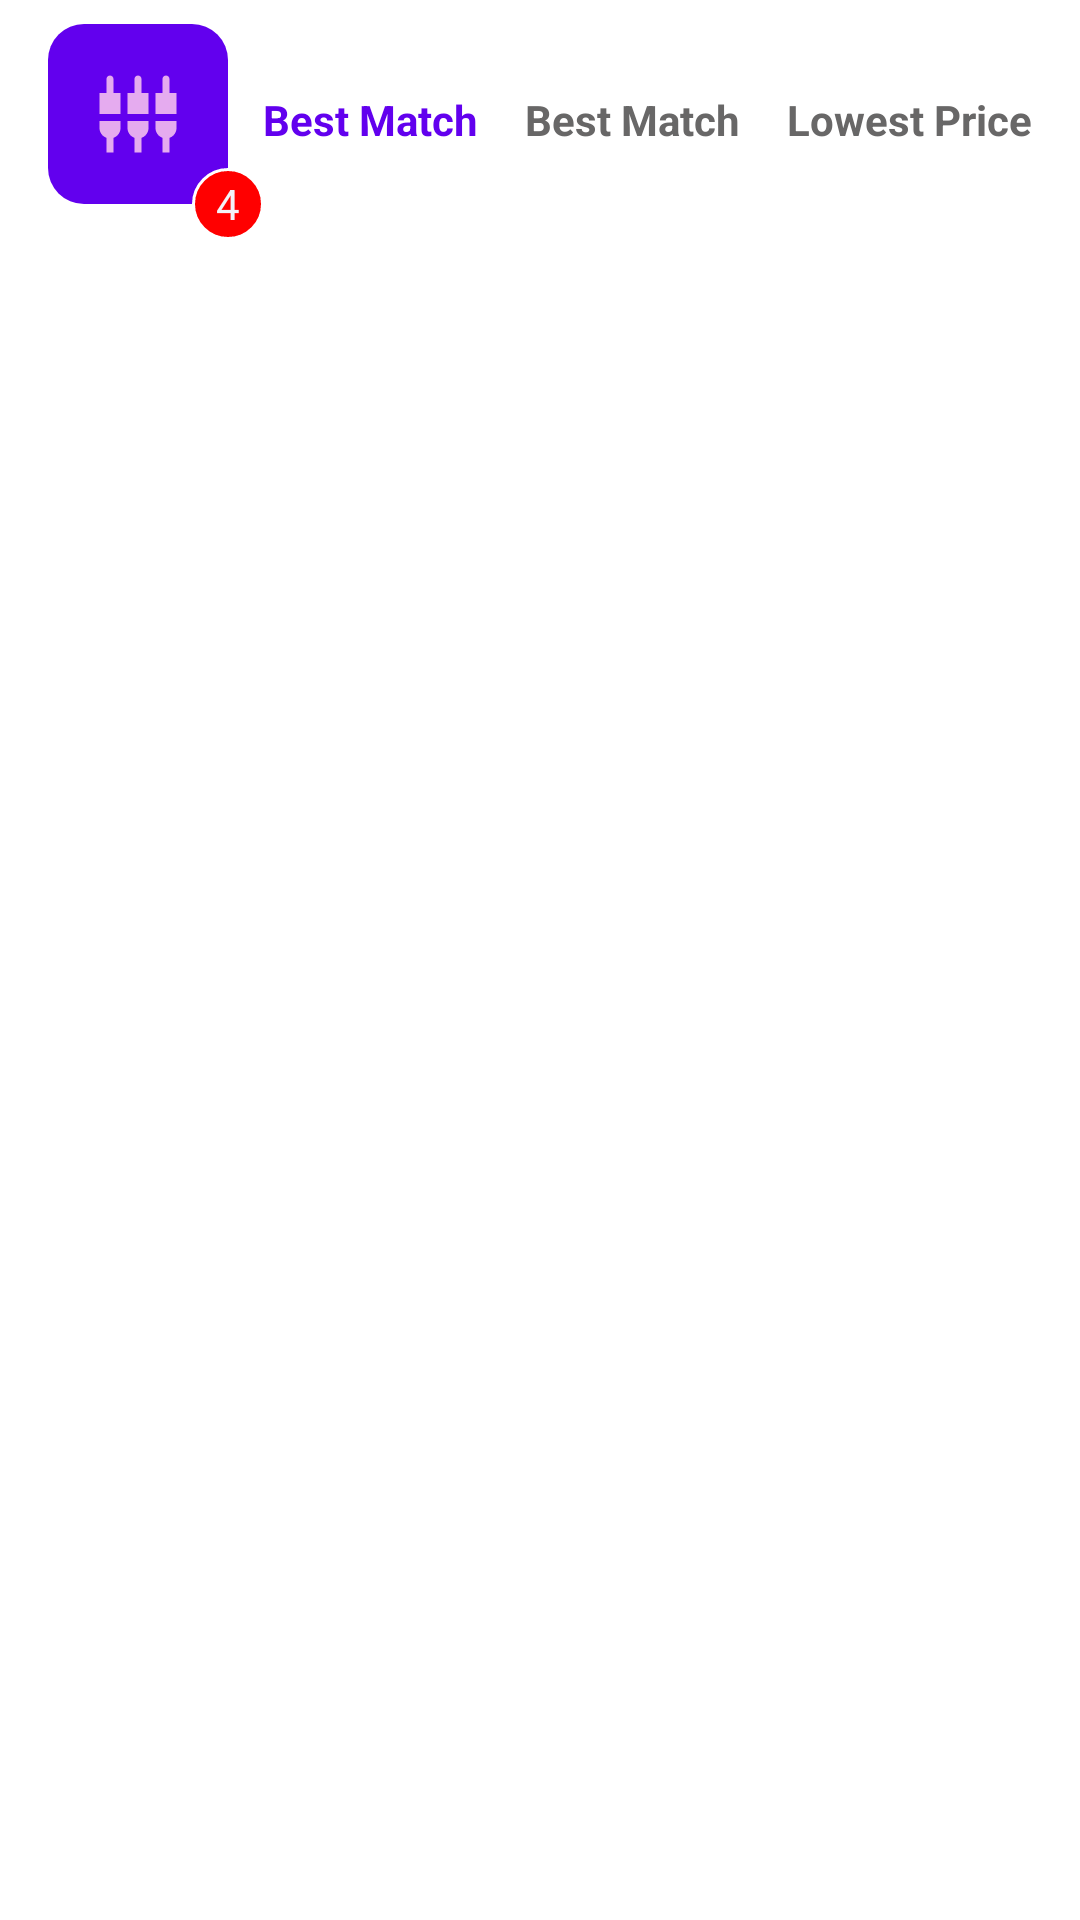

Icon bounding boxes for this 1080 x 1920 phone screenshot, format (x1, y1, x2, y2):
settings input composite: (48, 24, 228, 204)
